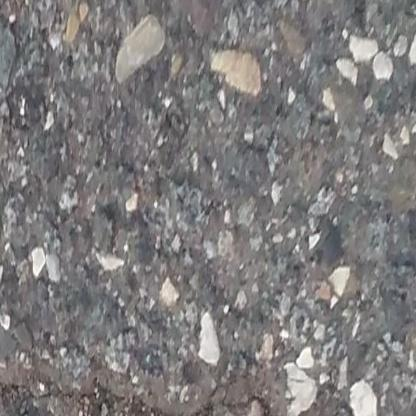Cracks: (0, 368, 372, 416)
